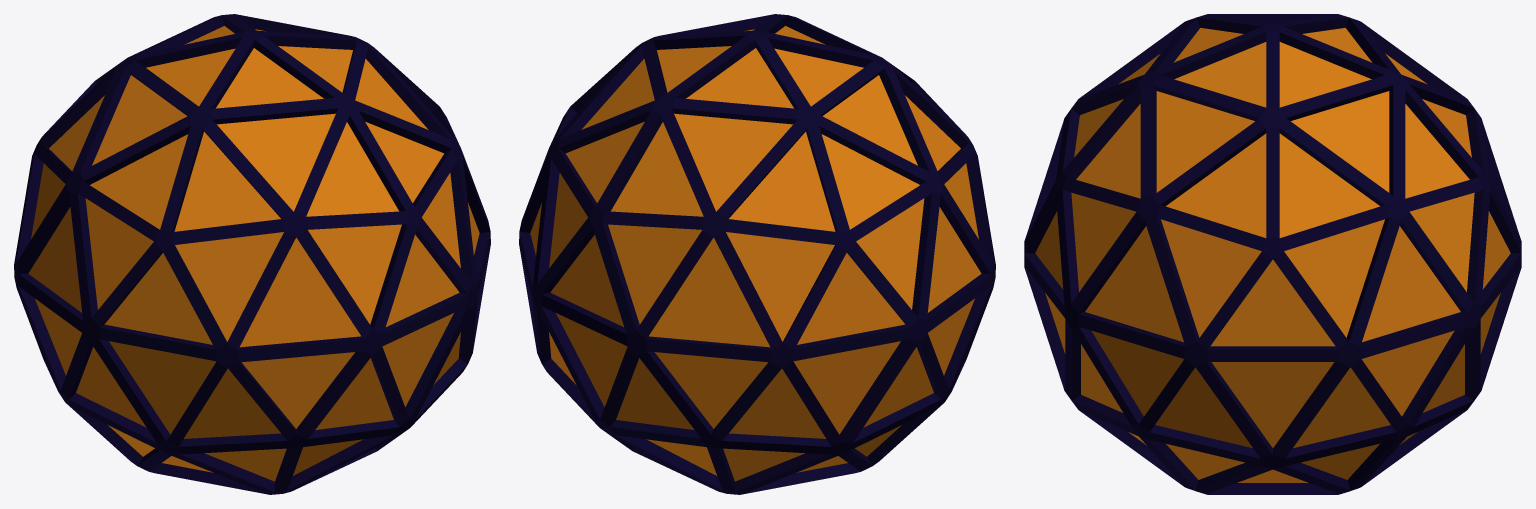
The model's file is Orb.FBX.
3 renders of one model, left to right at view 1: azimuth 30°, elevation 25°; view 2: azimuth 150°, elevation 25°; view 3: azimuth 270°, elevation 25°, orthographic. The views are drawn at different scales.
Visible parts, largest first — view 1: GeoSphere001; view 2: GeoSphere001; view 3: GeoSphere001.
Part boxes in pixels (box(x1,y1,x2,y2)): GeoSphere001: box(14, 14, 490, 494); GeoSphere001: box(519, 14, 995, 494); GeoSphere001: box(1024, 14, 1521, 494).
Size of the model in its own units: 190 by 197 by 196.
